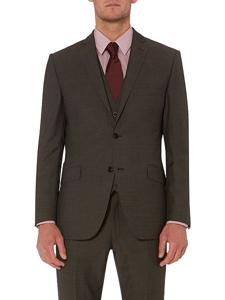F_M_suit jacket: (35, 35, 194, 236)
F_dress pants: (53, 195, 166, 297)
F_tie: (102, 40, 127, 95)
